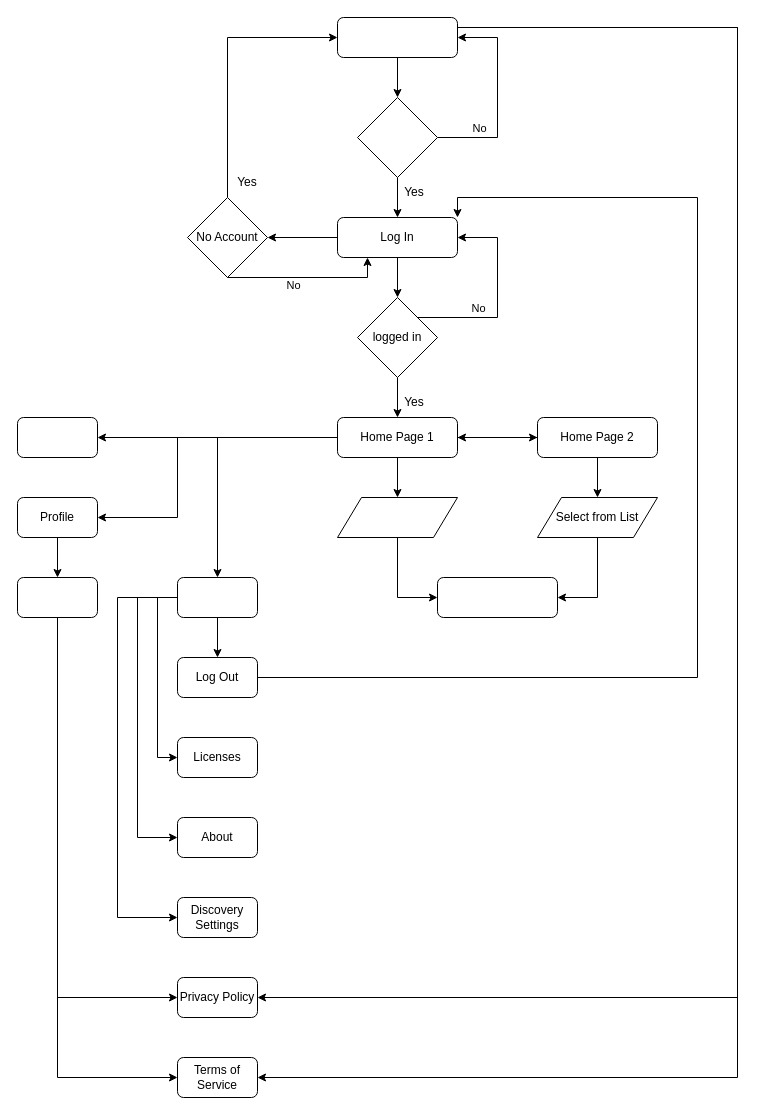
Image size: 763x1115. Some labels were removed from this diagram. Each missing label, with the centre of its shape:
Add: the point at 57,437
Create Account: the point at 397,37
has account: the point at 397,137
Manage: the point at 57,597
Options: the point at 217,597
Select on Map: the point at 397,517
Selection: the point at 497,597
